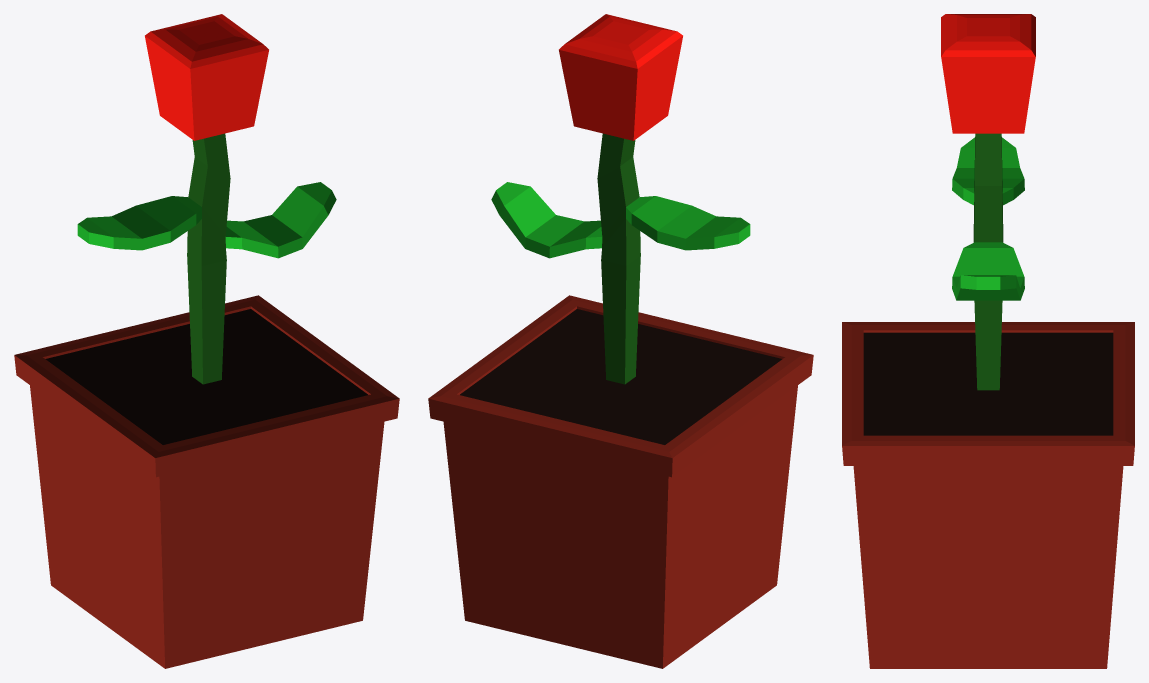
File: Flower Pot 2.fbx
The picture shows the model from 3 angles, left to right: view 1: azimuth 30°, elevation 25°; view 2: azimuth 150°, elevation 25°; view 3: azimuth 270°, elevation 25°; orthographic projection. The views are drawn at different scales.
Visible parts, largest first — view 1: Node 0; view 2: Node 0; view 3: Node 0.
Part boxes in pixels (x1,y1,x2,y2): Node 0: (14, 14, 399, 668); Node 0: (428, 14, 813, 668); Node 0: (842, 14, 1134, 668).
Bounding box in the file's own units: 0.1094 × 0.2438 × 0.1108.
